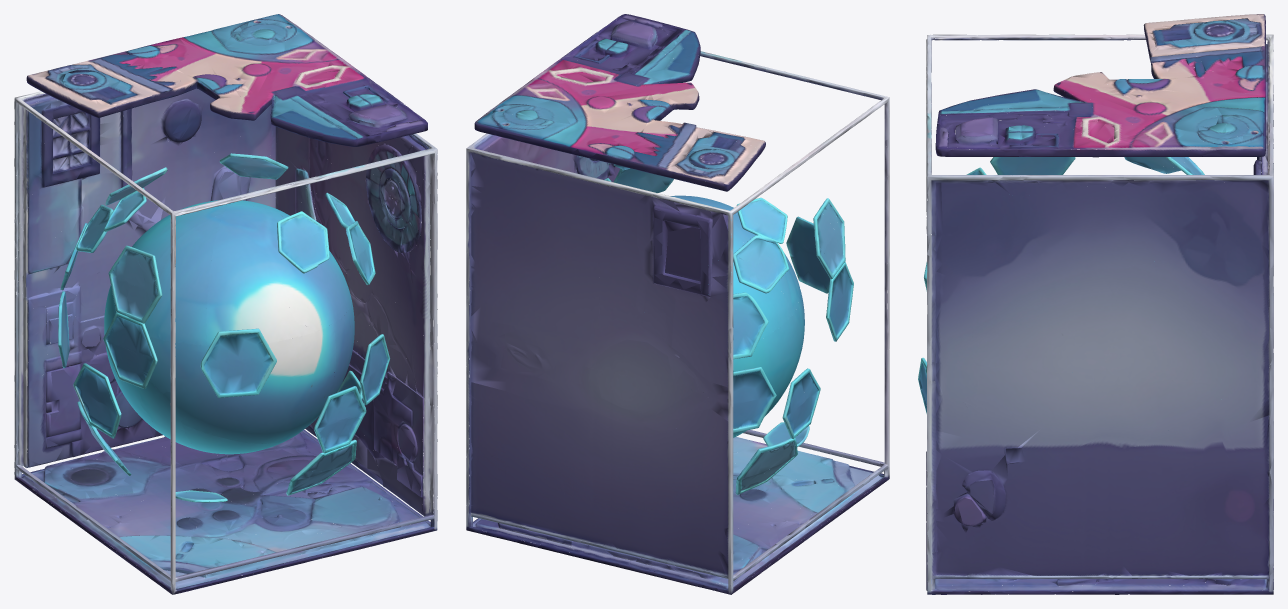
Rendered from prop_shield.glb.
3 renders of one model, left to right at view 1: azimuth 30°, elevation 25°; view 2: azimuth 150°, elevation 25°; view 3: azimuth 270°, elevation 25°, orthographic. The views are drawn at different scales.
Visible parts, largest first — view 1: tripo_node_f8c269f5-1718-40e7-a414-d92c4364f630; view 2: tripo_node_f8c269f5-1718-40e7-a414-d92c4364f630; view 3: tripo_node_f8c269f5-1718-40e7-a414-d92c4364f630.
Boxes of the visible parts, box(x1,y1,x2,y2) form: tripo_node_f8c269f5-1718-40e7-a414-d92c4364f630: box(14, 14, 437, 594); tripo_node_f8c269f5-1718-40e7-a414-d92c4364f630: box(466, 14, 889, 594); tripo_node_f8c269f5-1718-40e7-a414-d92c4364f630: box(918, 14, 1273, 594).
Size of the model in its own units: 0.6727 by 0.9786 by 0.7023.
1 material, 1 textured.
